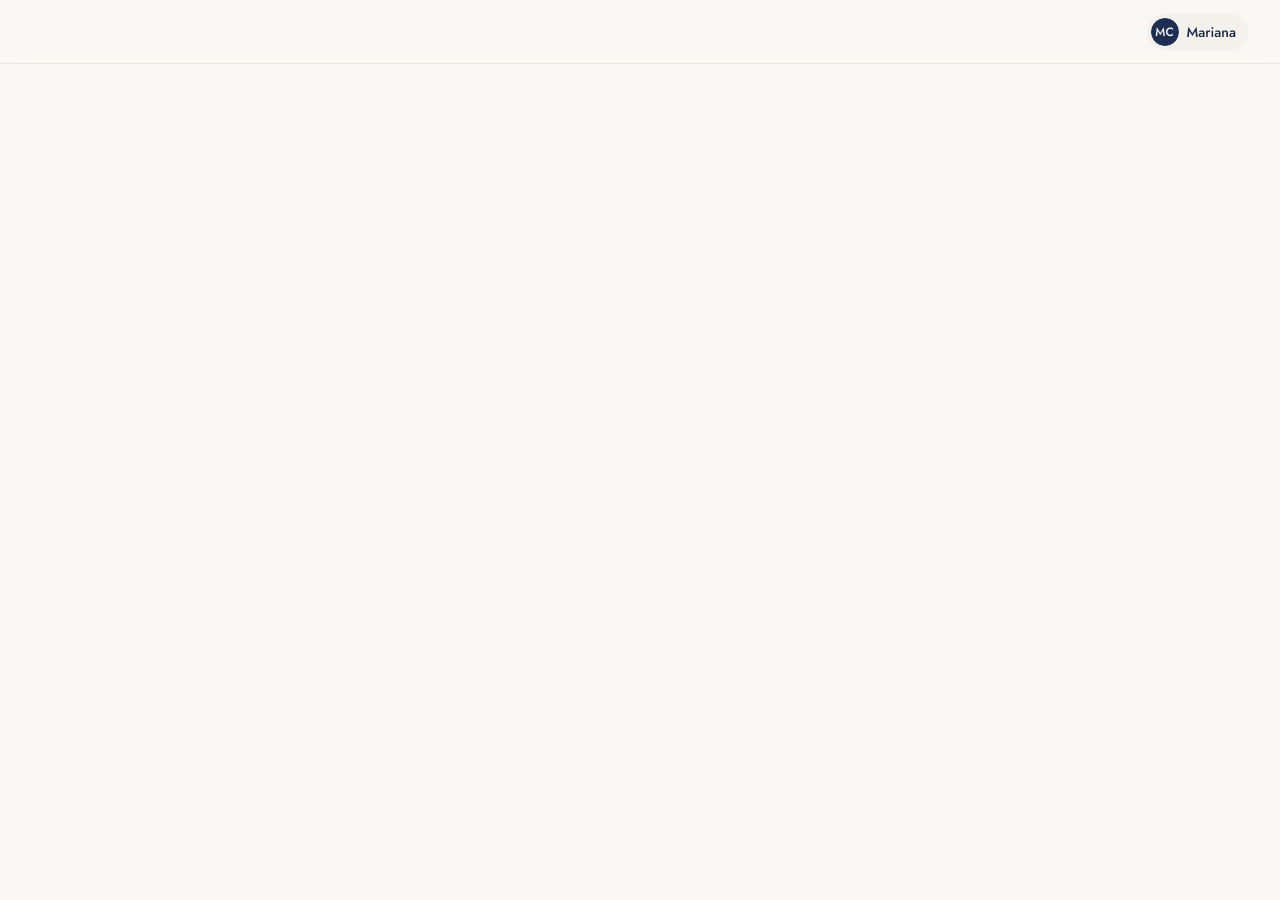
menu do perfil no header › Notificações abre o painel
Press Enter in the button "MC Mariana", box [1146, 14, 1248, 50]
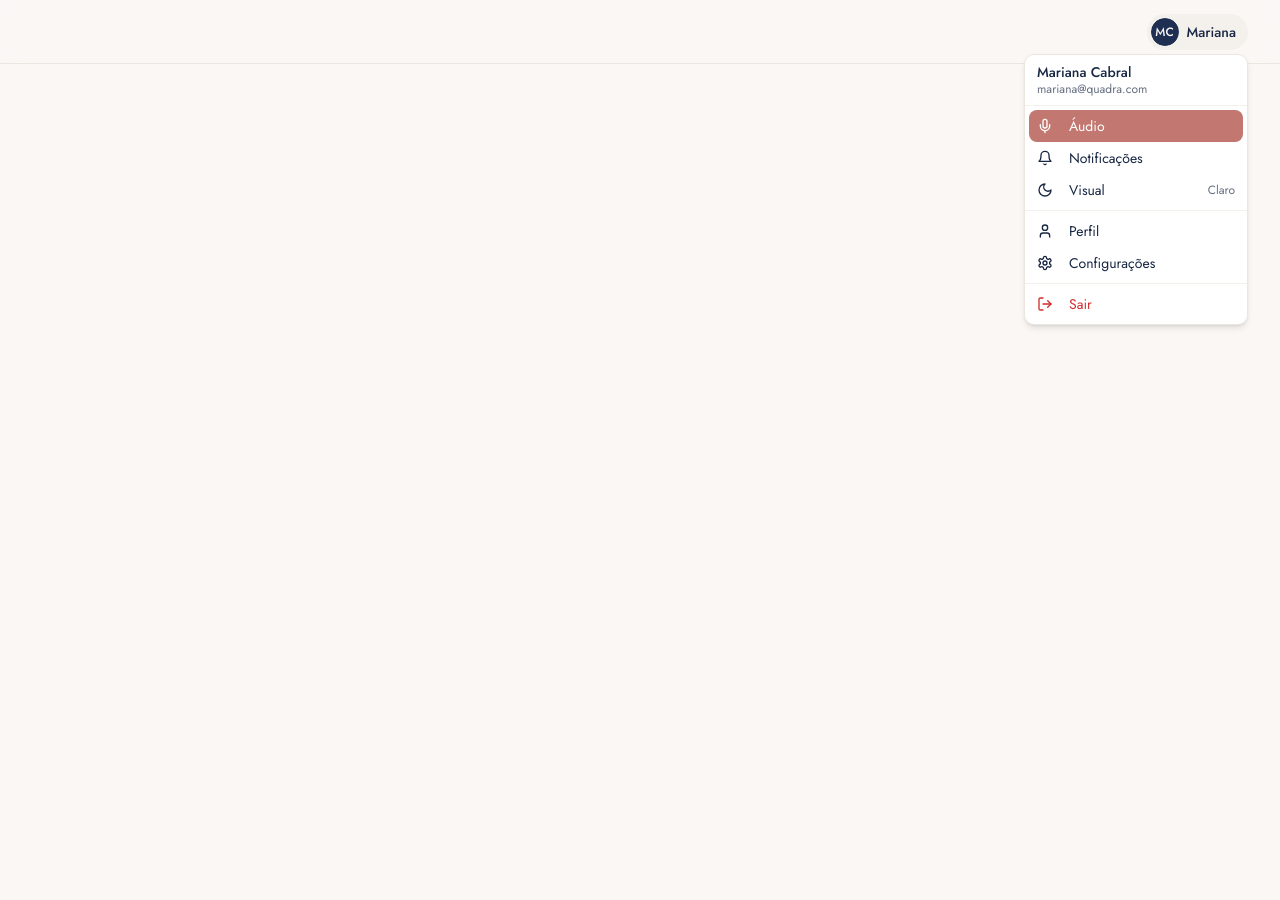
Click the menu item "Notificações". click: x=1090, y=158
box: [1037, 148, 1143, 168]
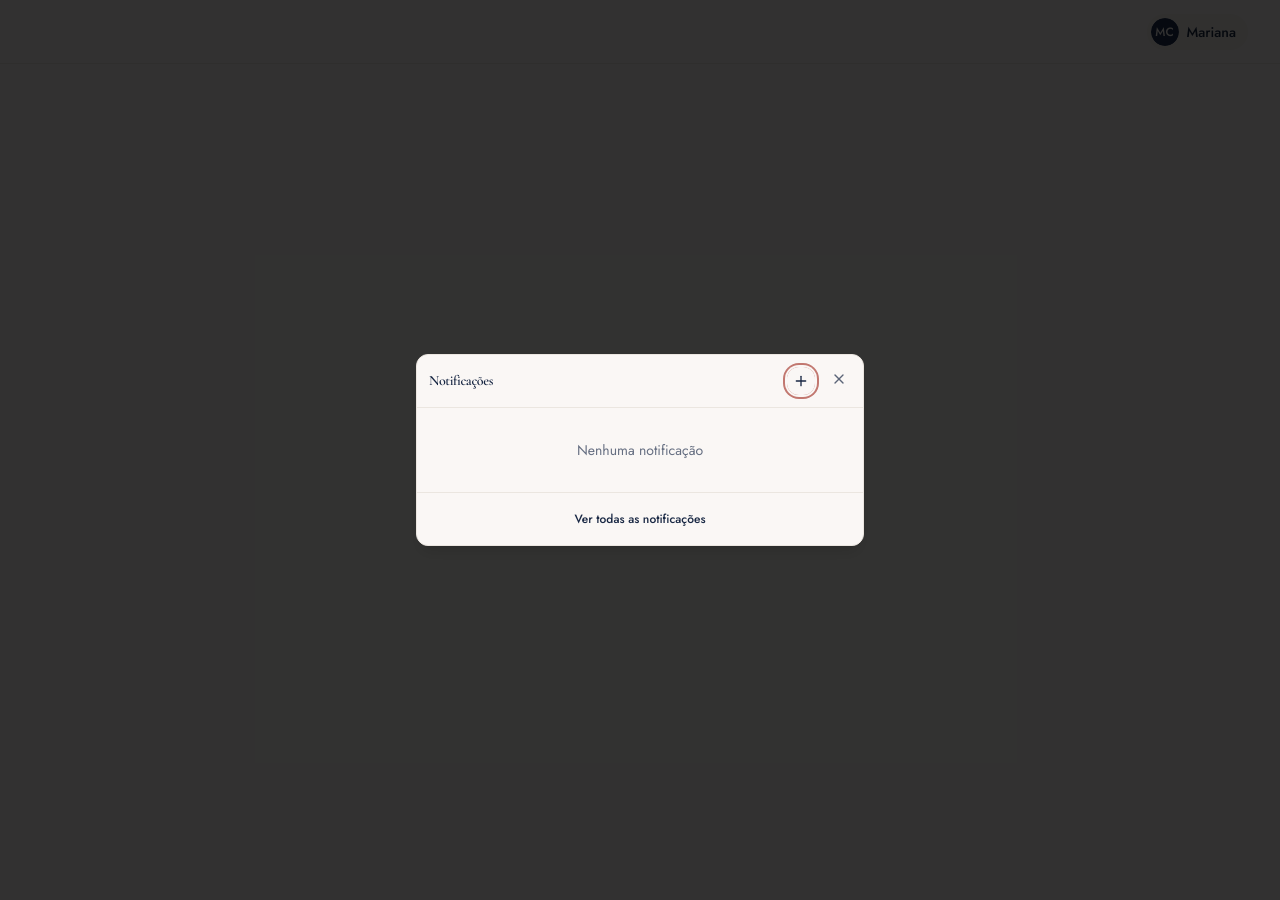
Now the dialog "Notificações Nenhuma notificação Ver todas as notificações" is shown, box [416, 354, 864, 546]
